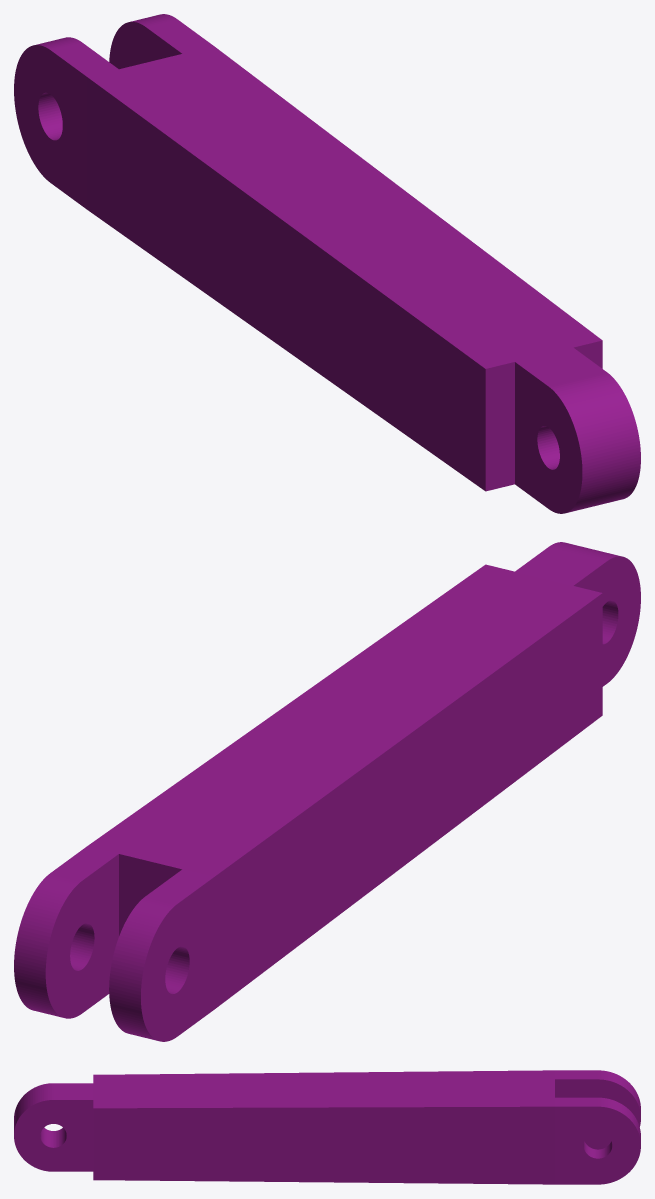
The picture shows the model from 3 angles, top to bottom: view 1: azimuth 30°, elevation 25°; view 2: azimuth 150°, elevation 25°; view 3: azimuth 270°, elevation 25°; orthographic projection. The views are drawn at different scales.
Parts seen in each view (by area): view 1: node; view 2: node; view 3: node.
Part boxes in pixels (left/top/right/bottom): node: left=14, top=14, right=640, bottom=513; node: left=14, top=542, right=640, bottom=1041; node: left=14, top=1070, right=640, bottom=1184.
Size of the model in its own units: 0.0558 by 0.0558 by 0.4074.
